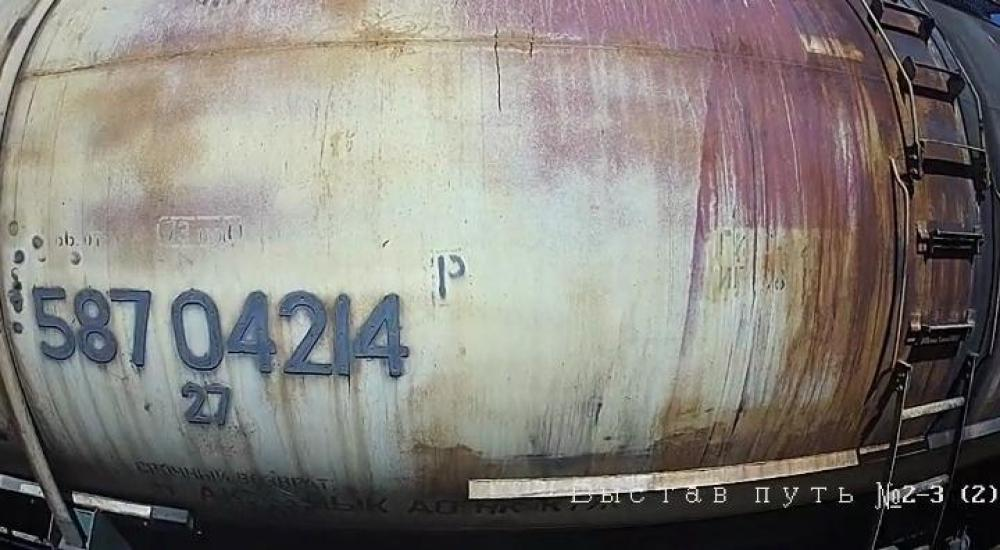Wagon-number: (28, 282, 412, 384)
